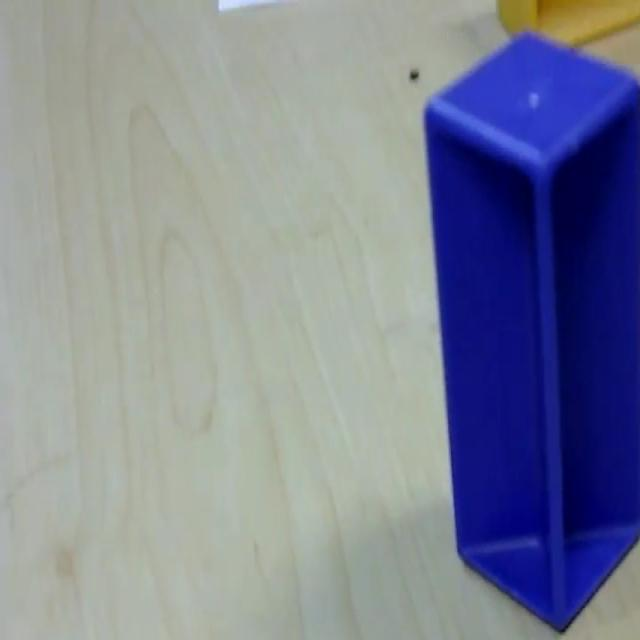blue_block: (421, 27, 638, 630)
